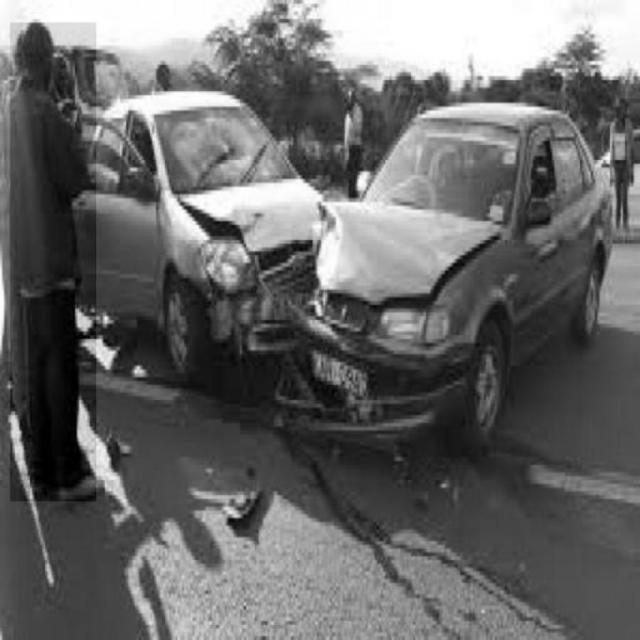accident: (94, 93, 618, 450)
person: (11, 22, 97, 500)
